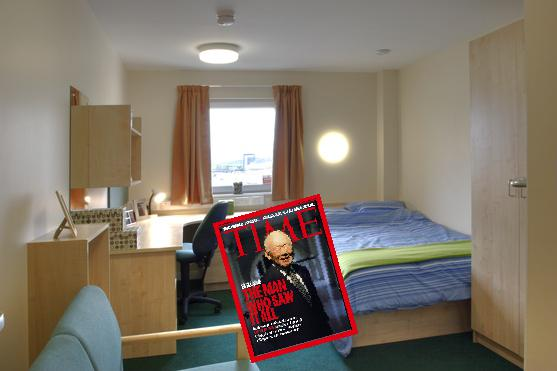times: (210, 192, 357, 366)
